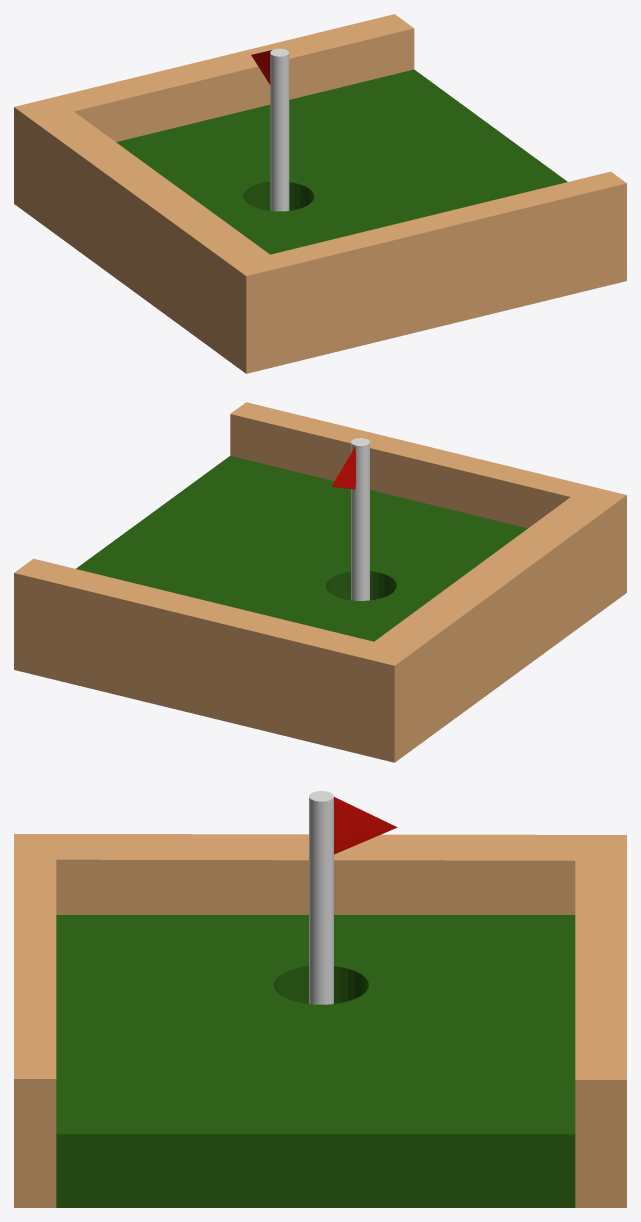
The model's file is Lego4.fbx.
3 renders of one model, top to bottom at view 1: azimuth 30°, elevation 25°; view 2: azimuth 150°, elevation 25°; view 3: azimuth 270°, elevation 25°, orthographic. The views are drawn at different scales.
Visible parts, largest first — view 1: Cube.007, Cube.003, Pole.002; view 2: Cube.007, Cube.003, Pole.002, flag.002; view 3: Cube.003, Cube.007, Pole.002, flag.002.
Part boxes in pixels (x1,y1,x2,y2): Cube.007: [14, 14, 626, 373]; Cube.003: [116, 69, 567, 254]; Pole.002: [270, 48, 289, 211]; Cube.007: [14, 402, 626, 762]; Cube.003: [76, 456, 527, 641]; Pole.002: [351, 438, 369, 600]; flag.002: [331, 446, 355, 489]; Cube.003: [56, 915, 575, 1207]; Cube.007: [14, 834, 626, 1207]; Pole.002: [309, 791, 333, 1004]; flag.002: [334, 797, 397, 854].
Bounding box in the file's own units: 171 × 85.71 × 181.
